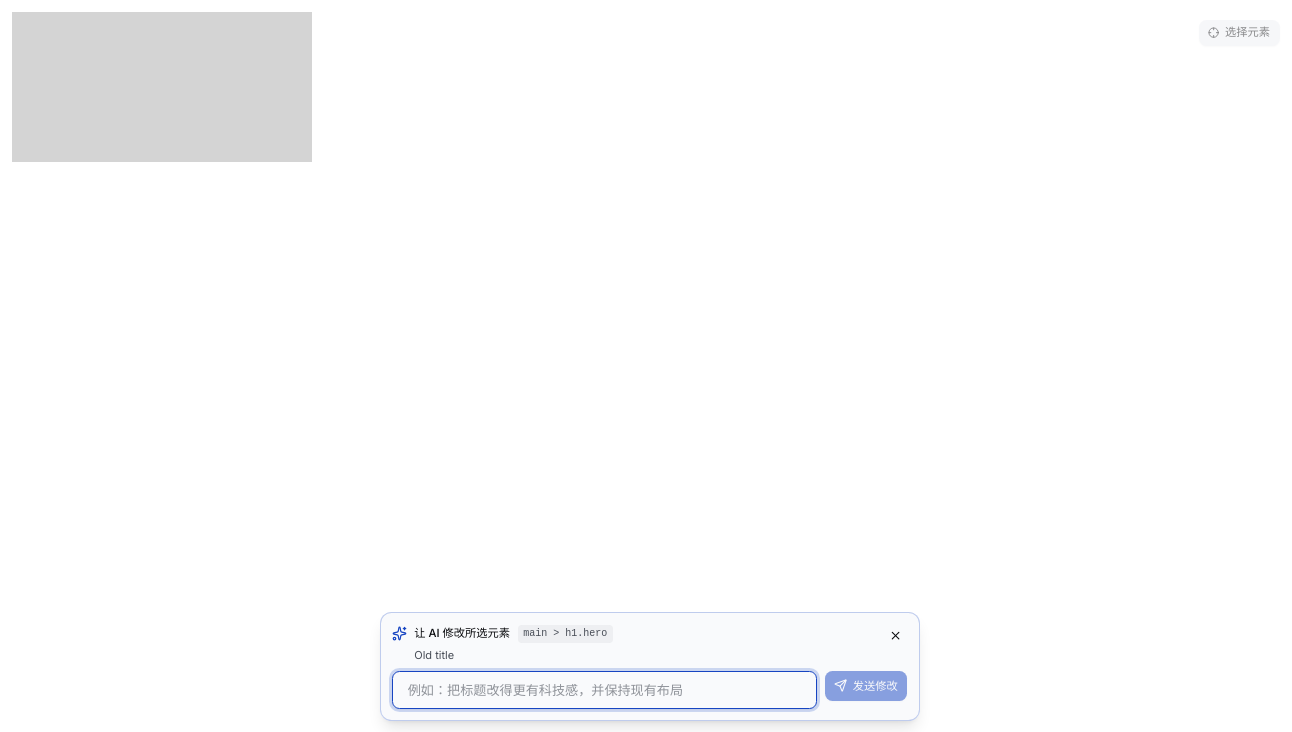
Scenario: InspectOverlay AI edit handoff › turns an iframe element selection into an AI edit request
Expected: the text "让 AI 修改所选元素" is shown, x1=414 y1=626 x2=510 y2=641
Type "改成发光的蓝色标题" into the field with placeholder "例如：把标题改得更有科技感，并保持现有布局" at (605, 690), box x1=392 y1=671 x2=817 y2=708
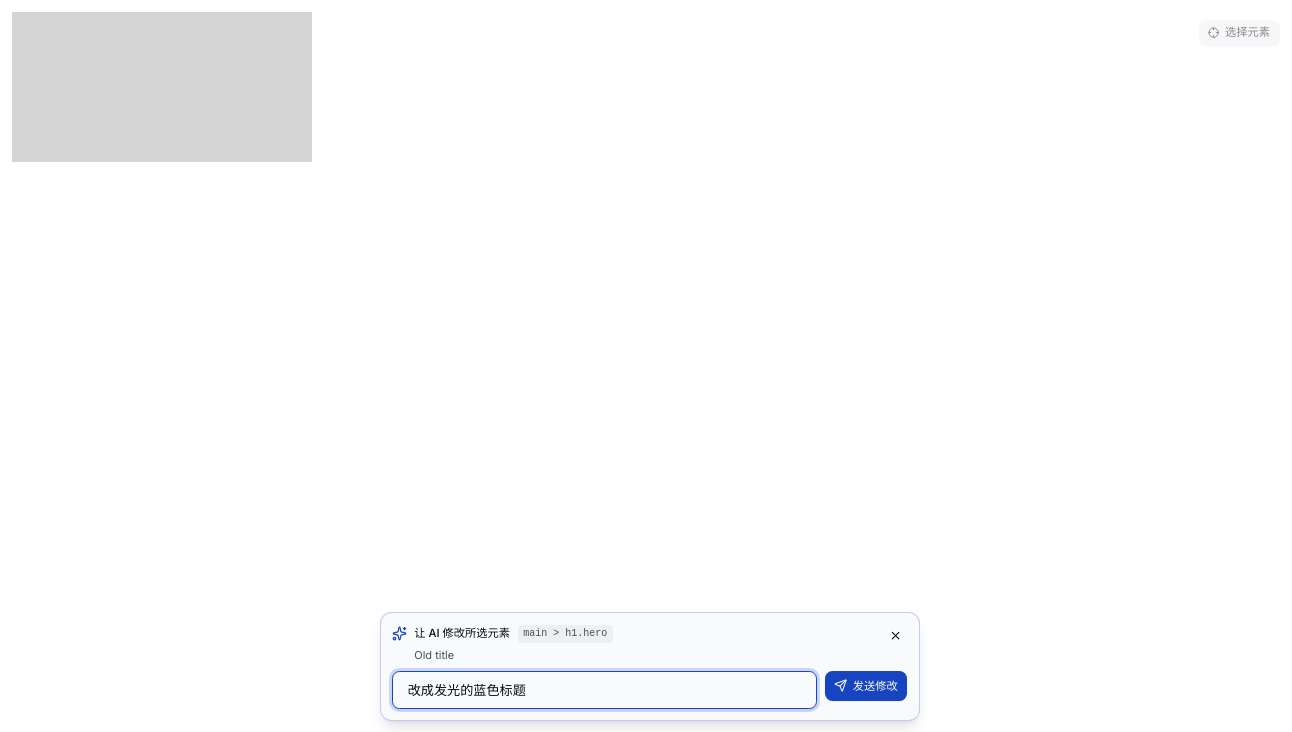
Click the button "发送修改" at (866, 686), box x1=825 y1=671 x2=907 y2=701
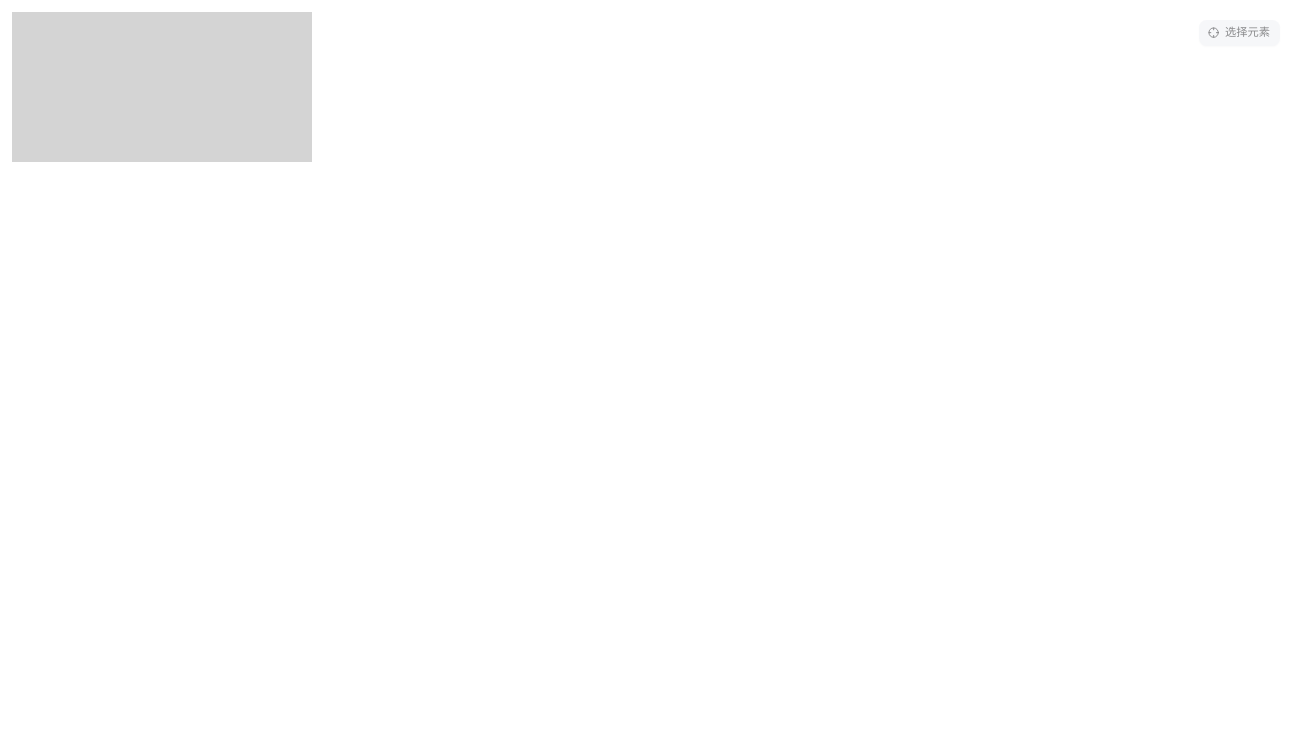
Result: the text "让 AI 修改所选元素" is gone
